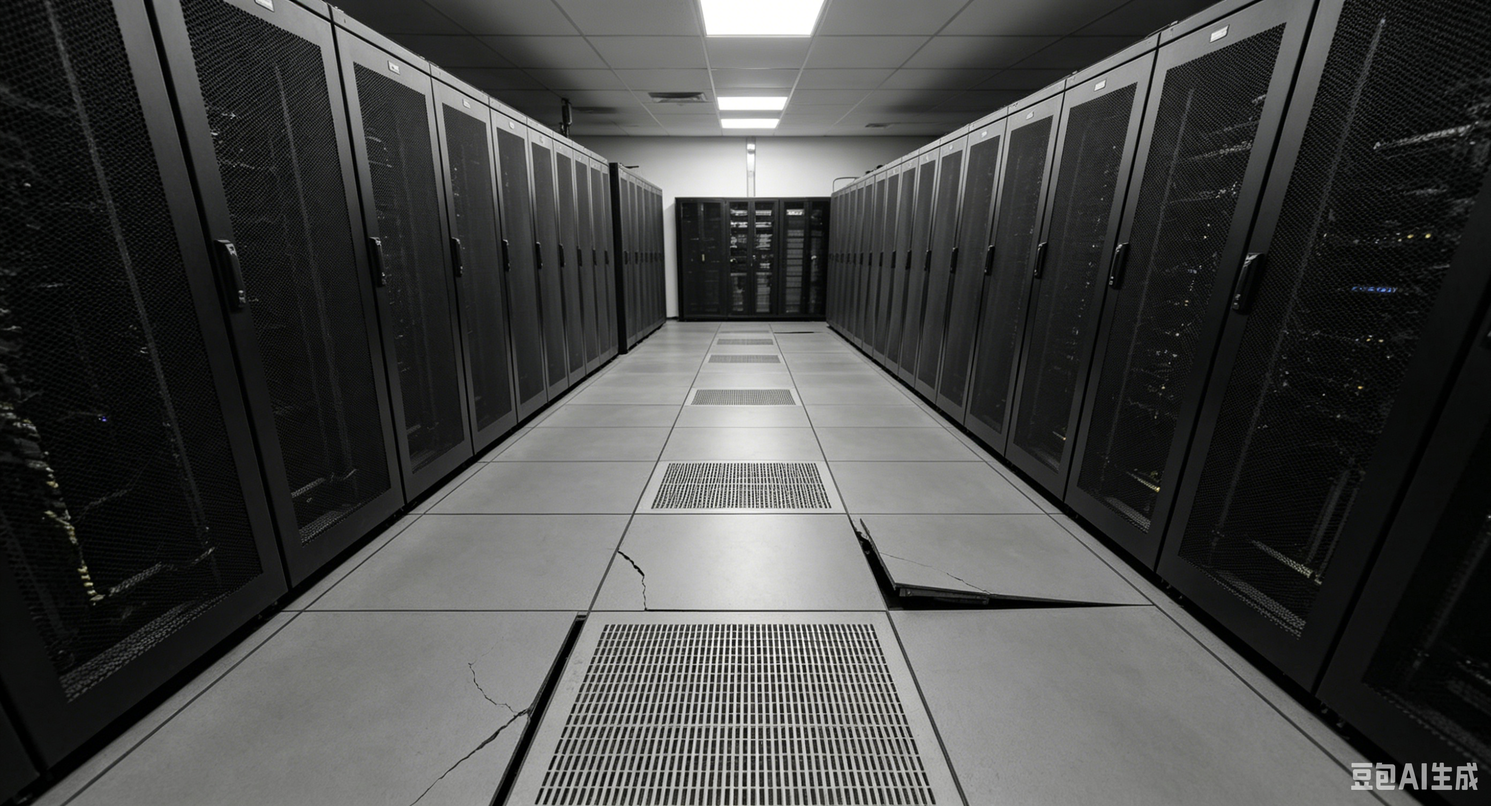floor_defect: (842, 505, 1159, 619), (534, 604, 579, 720), (477, 717, 534, 806), (452, 656, 528, 720), (421, 729, 477, 806), (611, 540, 664, 621)
